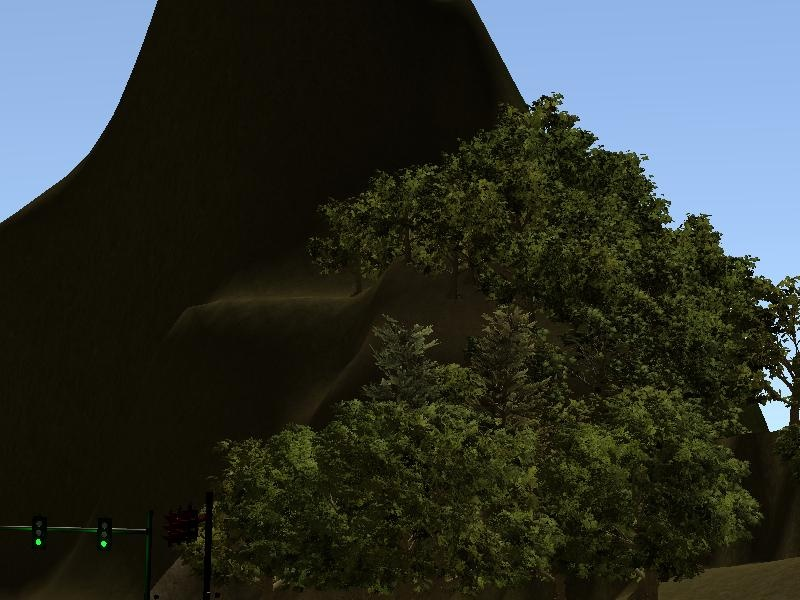Green: (97, 517, 112, 552), (32, 516, 47, 550)
